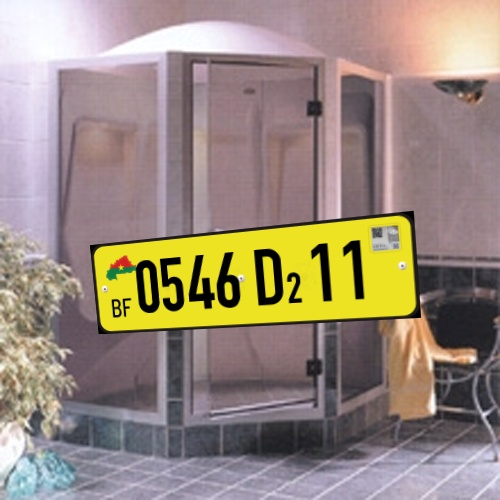plate: (82, 201, 437, 337)
